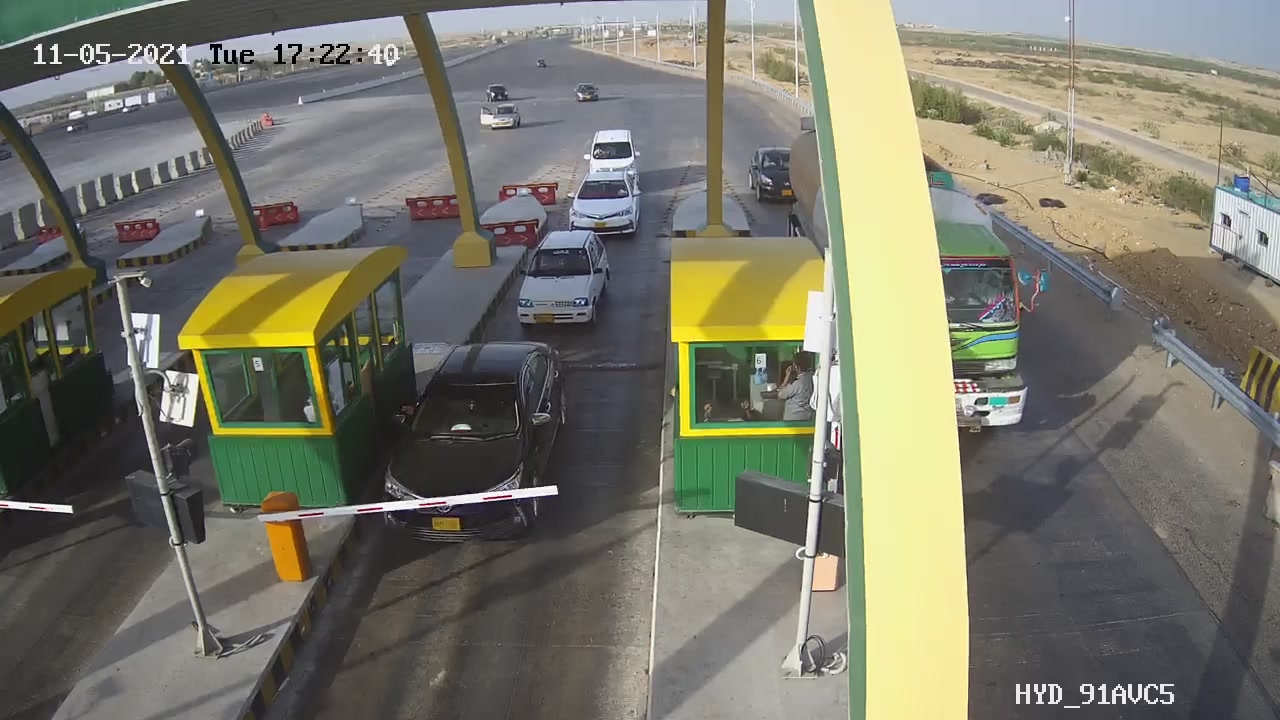F1: (365, 325, 595, 560), (501, 220, 633, 343)
